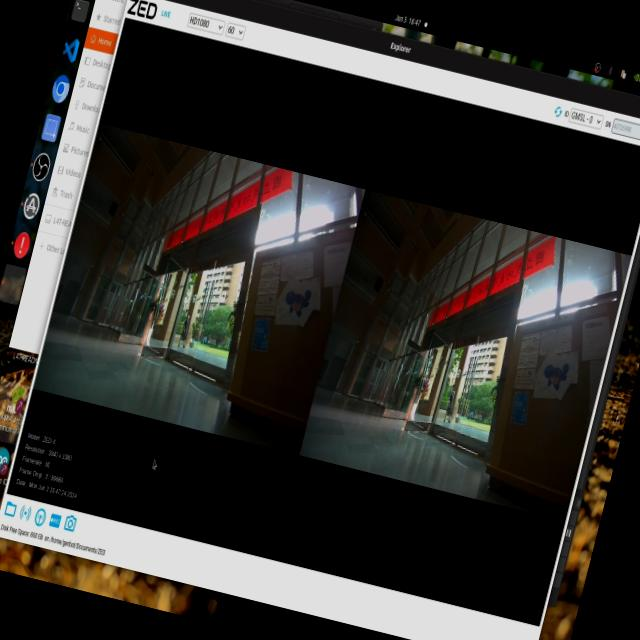blue: (531, 346, 582, 392), (276, 286, 314, 324)
